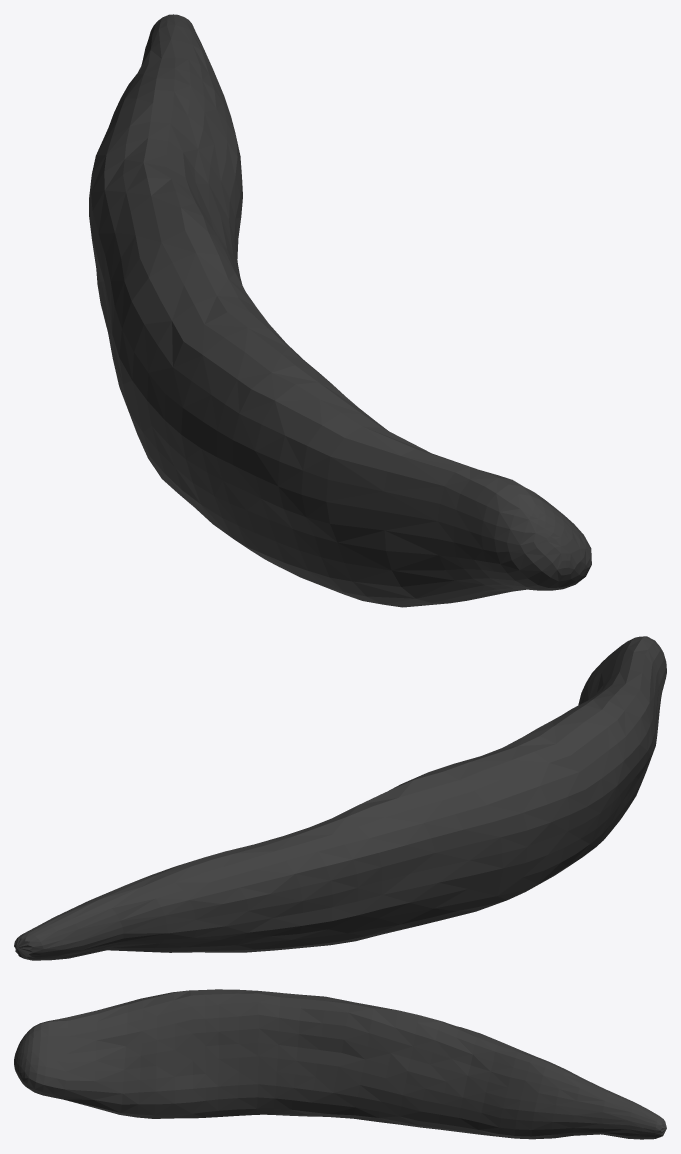
File: SupDigFlex_1.glb
3 views of the same model, one above another, from view 1: azimuth 30°, elevation 25°; view 2: azimuth 150°, elevation 25°; view 3: azimuth 270°, elevation 25° (orthographic). The views are drawn at different scales.
Parts seen in each view (by area): view 1: SupDigFlex_1; view 2: SupDigFlex_1; view 3: SupDigFlex_1.
Part boxes in pixels (x1,y1,x2,y2): SupDigFlex_1: (89,14,591,607); SupDigFlex_1: (14,636,666,960); SupDigFlex_1: (14,989,666,1139).
Bounding box in the file's own units: 0.00998 × 0.00494 × 0.026.
Materials: 1 (1 with a texture image).
